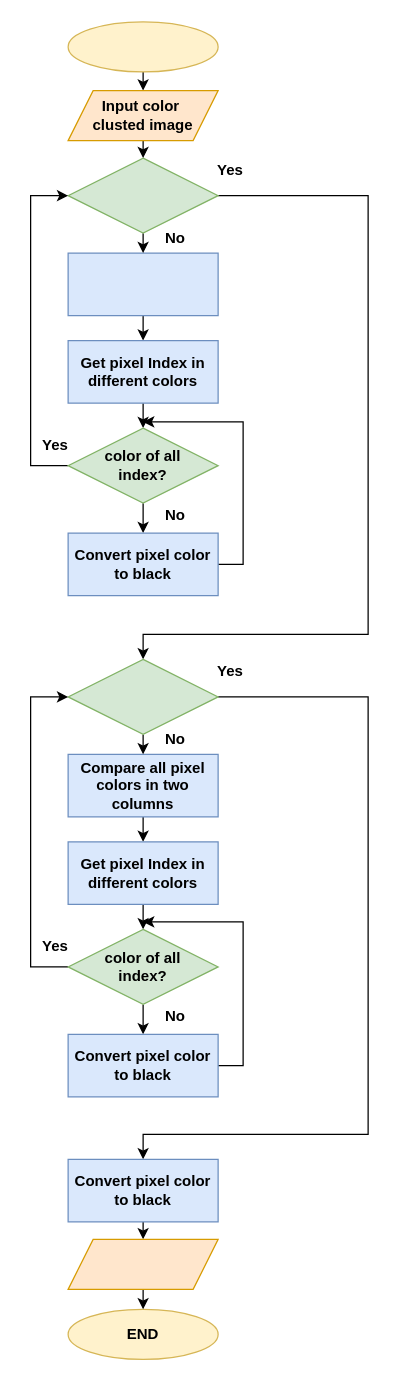
Some shapes in this 400 by 1381 pixel diagram are drawn without their labels. Each missing label, with the centre of its shape:
"Check every colmuns?" goes at (x=142, y=696).
"Check every rows?" goes at (x=142, y=195).
"Compare all pixel colors in two rows" goes at (x=142, y=284).
"output line drawed image" goes at (x=142, y=1263).
"START" goes at (x=142, y=46).
